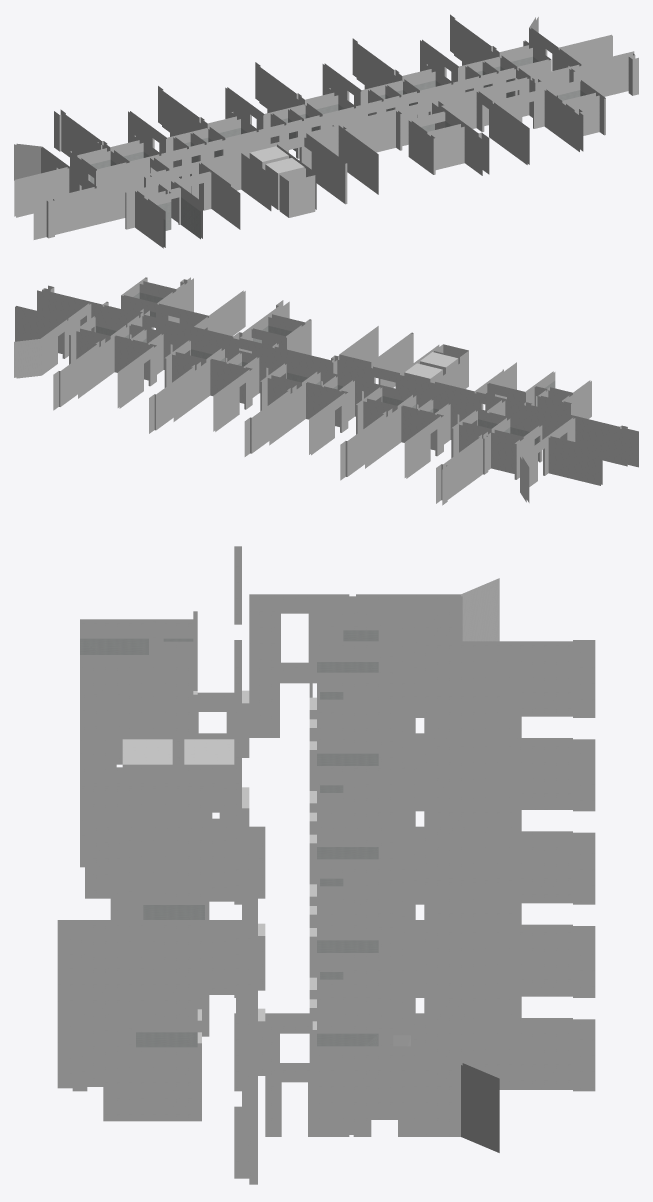
Rendered from Priecky_2NP003.obj.
3 renders of one model, top to bottom at view 1: azimuth 30°, elevation 25°; view 2: azimuth 150°, elevation 25°; view 3: azimuth 270°, elevation 25°, orthographic. The views are drawn at different scales.
Visible parts, largest first — view 1: Priecky_2NP003; view 2: Priecky_2NP003; view 3: Priecky_2NP003.
Part boxes in pixels (x1,y1,x2,y2): Priecky_2NP003: [14, 14, 638, 248]; Priecky_2NP003: [14, 277, 638, 505]; Priecky_2NP003: [57, 546, 595, 1184].
Size of the model in its own units: 3.45 by 0.2211 by 1.34.
Materials: 2 (2 with a texture image).
